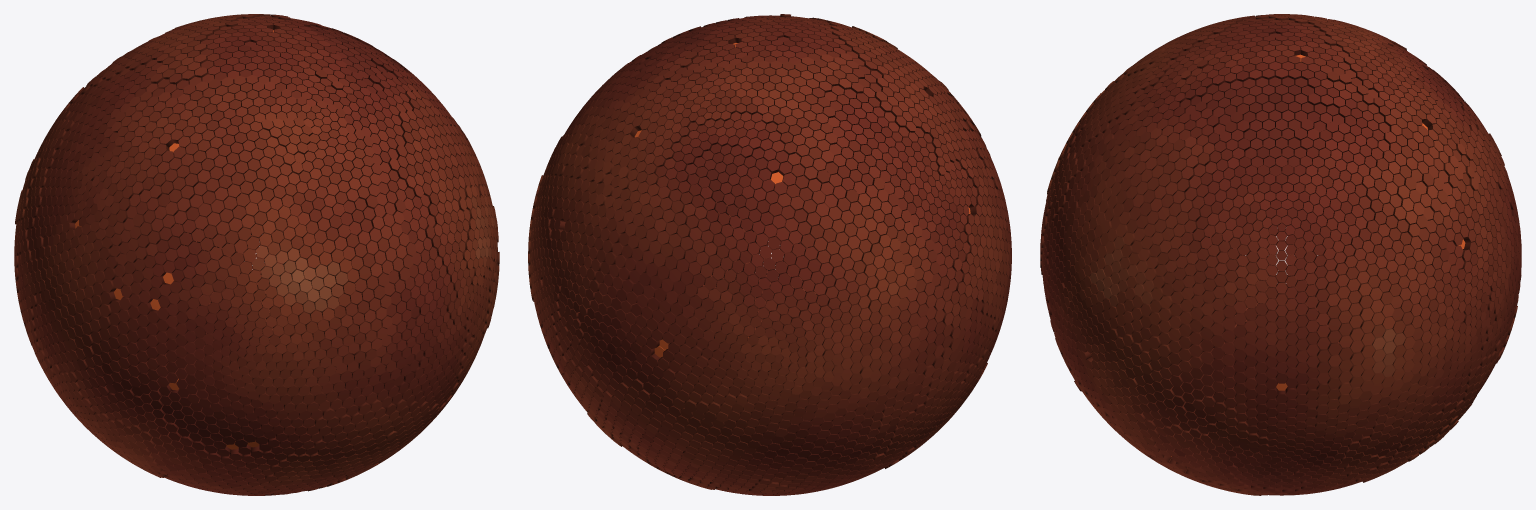
The model's file is ember_0.glb.
3 views of the same model, side by side, from view 1: azimuth 30°, elevation 25°; view 2: azimuth 150°, elevation 25°; view 3: azimuth 270°, elevation 25° (orthographic).
Visible parts, largest first — view 1: ember_0; view 2: ember_0; view 3: ember_0.
Part boxes in pixels (<box>): ember_0: <box>14,14,499,495</box>; ember_0: <box>528,14,1011,495</box>; ember_0: <box>1040,14,1521,495</box>.
Size of the model in its own units: 2.05 by 2.04 by 2.05.
